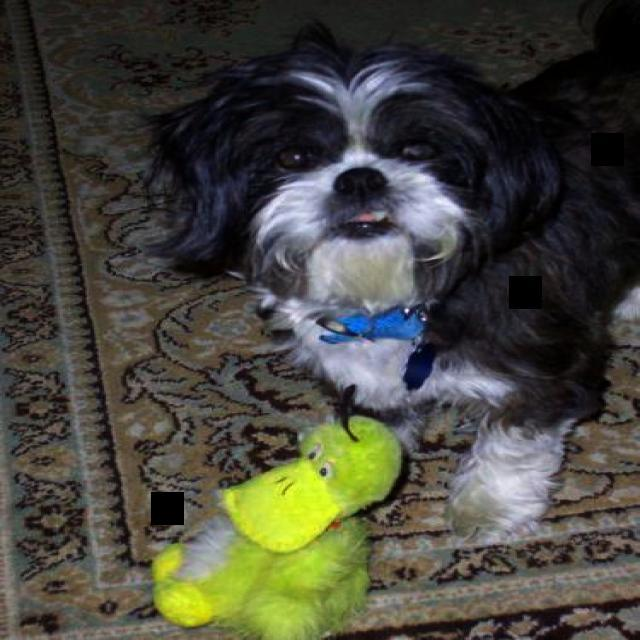adult_dog: (133, 6, 640, 537)
